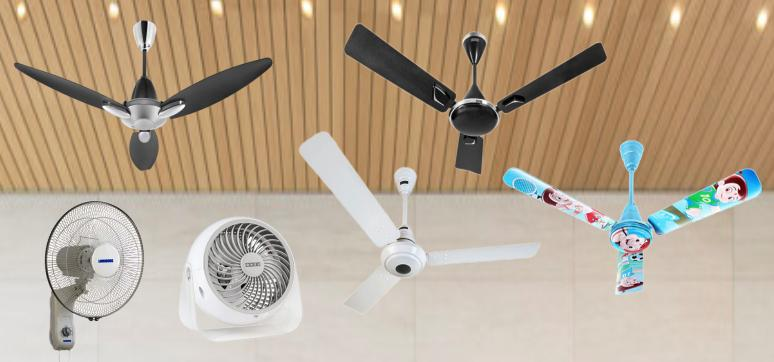fan: (306, 123, 542, 338), (498, 143, 770, 313), (345, 10, 613, 174), (9, 22, 273, 186), (27, 193, 149, 360), (171, 205, 303, 352)
light: (659, 1, 690, 35), (573, 0, 605, 32), (486, 1, 515, 27), (750, 8, 774, 36), (97, 1, 127, 23), (384, 2, 408, 27), (11, 0, 31, 23), (295, 0, 315, 21), (205, 0, 226, 17)
